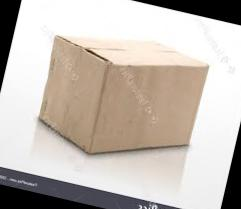cardboard: (17, 8, 230, 179)
